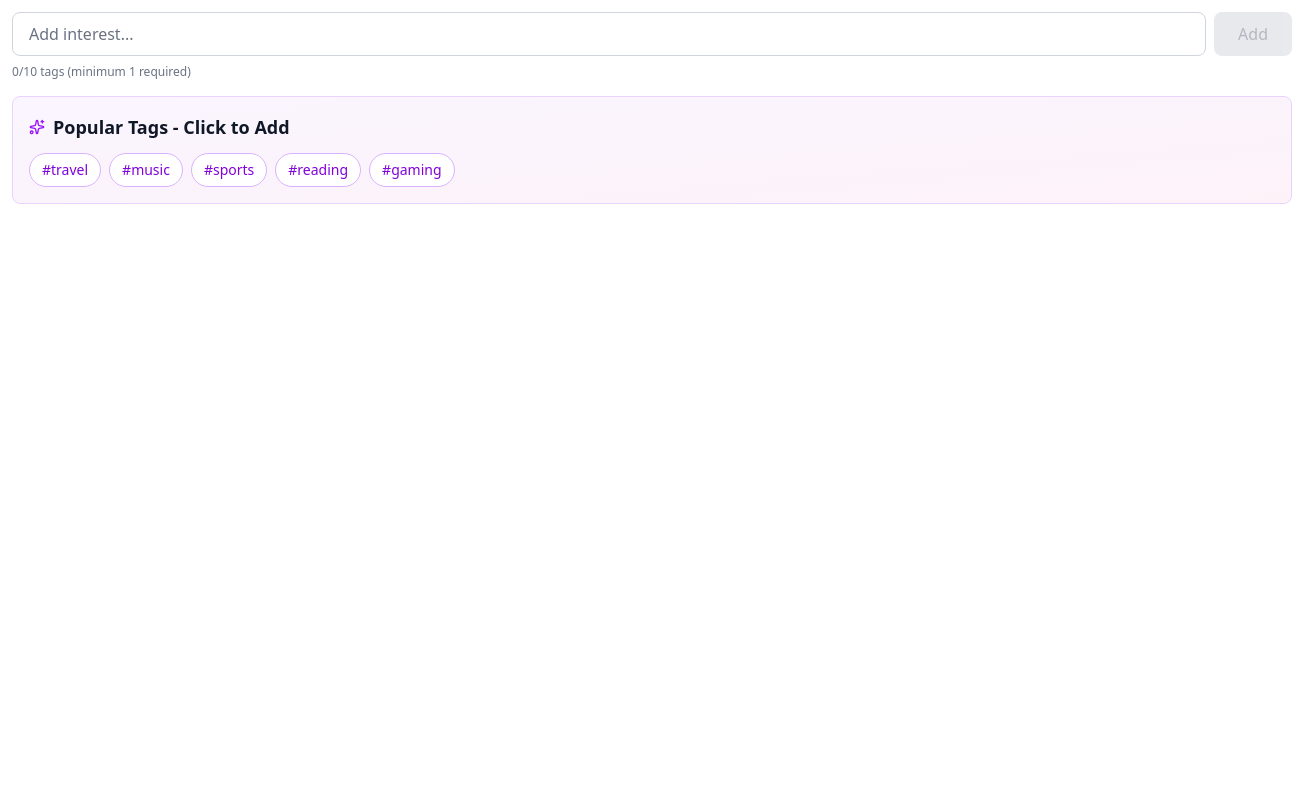
Test: TagSelector Component › Suggestions › should hide suggestions on blur
The image size is (1304, 812).
Type "co" into the field with placeholder "Add interest..." at (609, 34), box [12,12,1206,56]
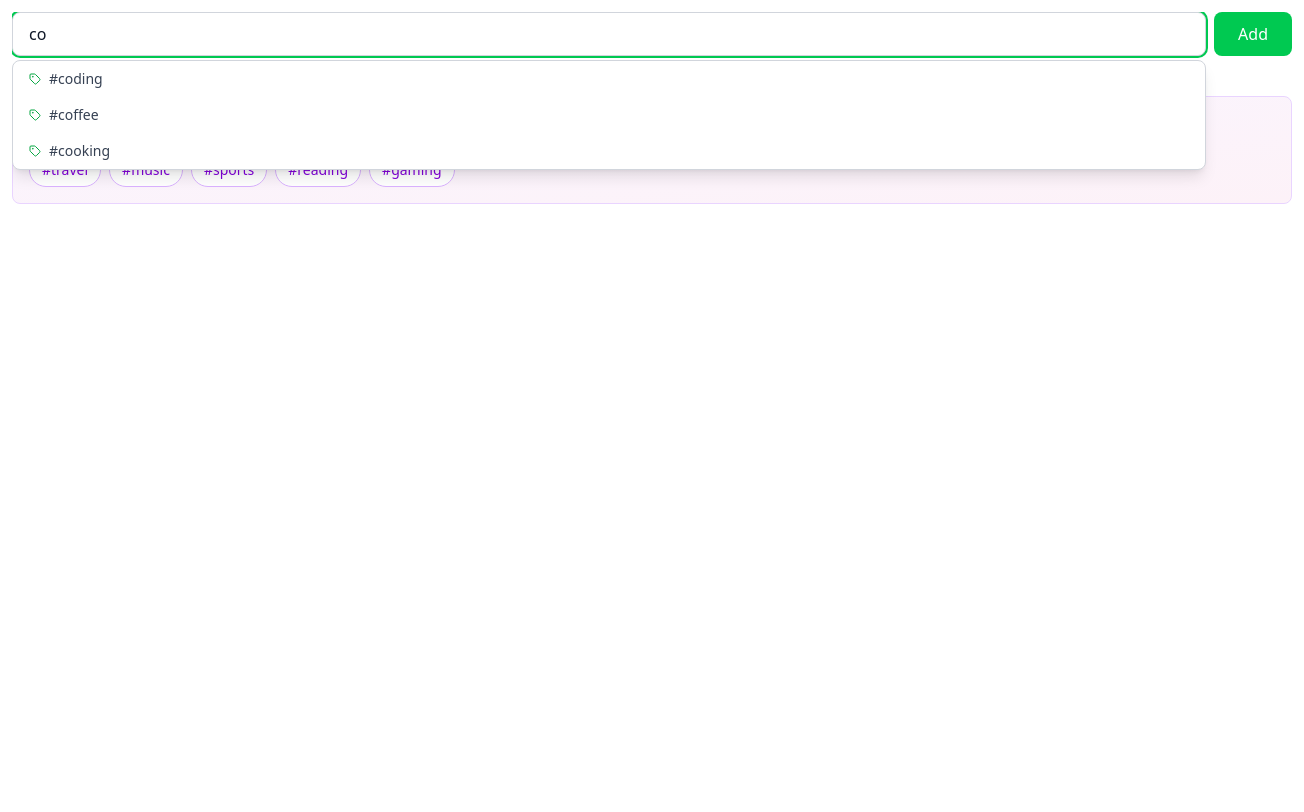
Now the text "#coding" is shown, box [49,69,103,89]
Click the element that starts with "coding" at (652, 412), box [12,12,1292,811]
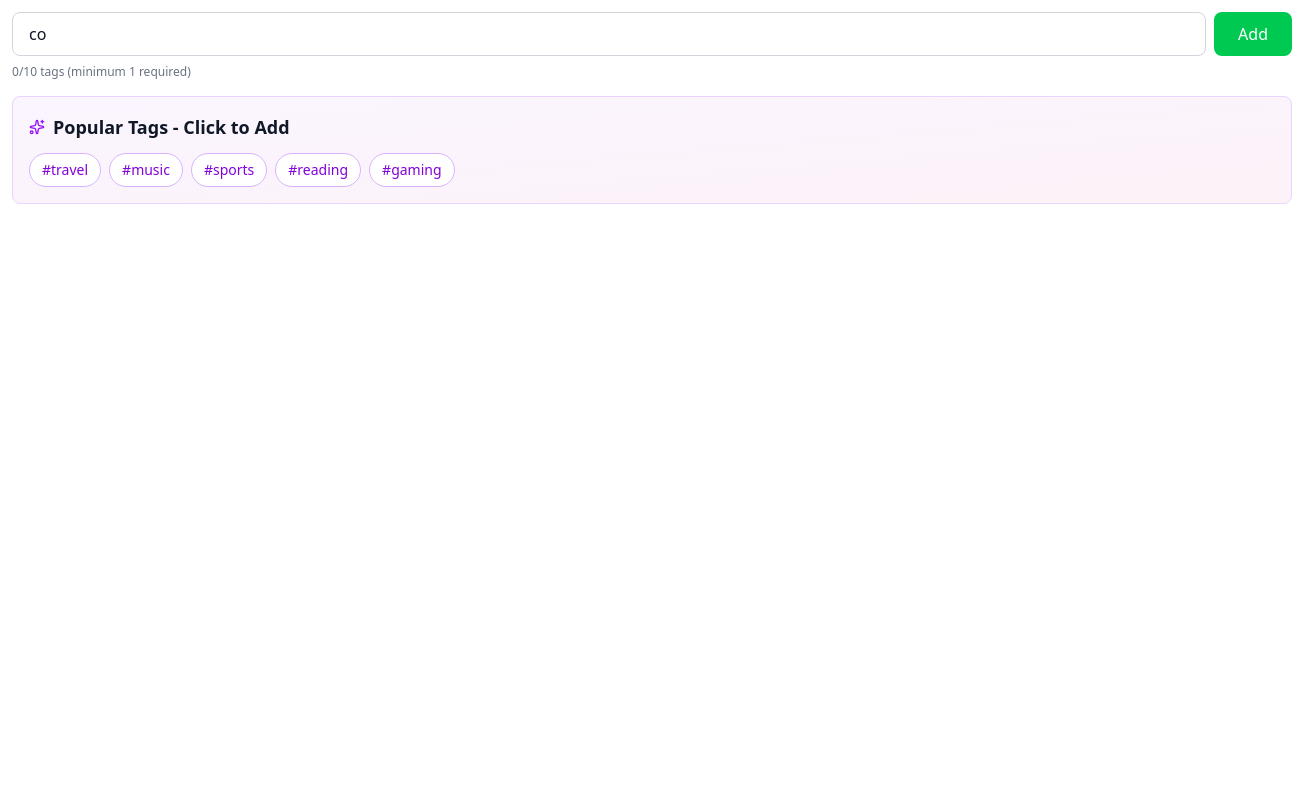
Now the button "#coding" is gone
